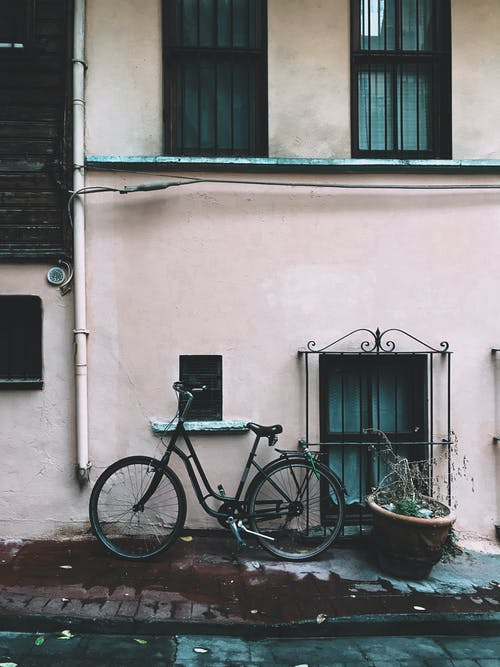bicycle: (86, 373, 352, 567)
